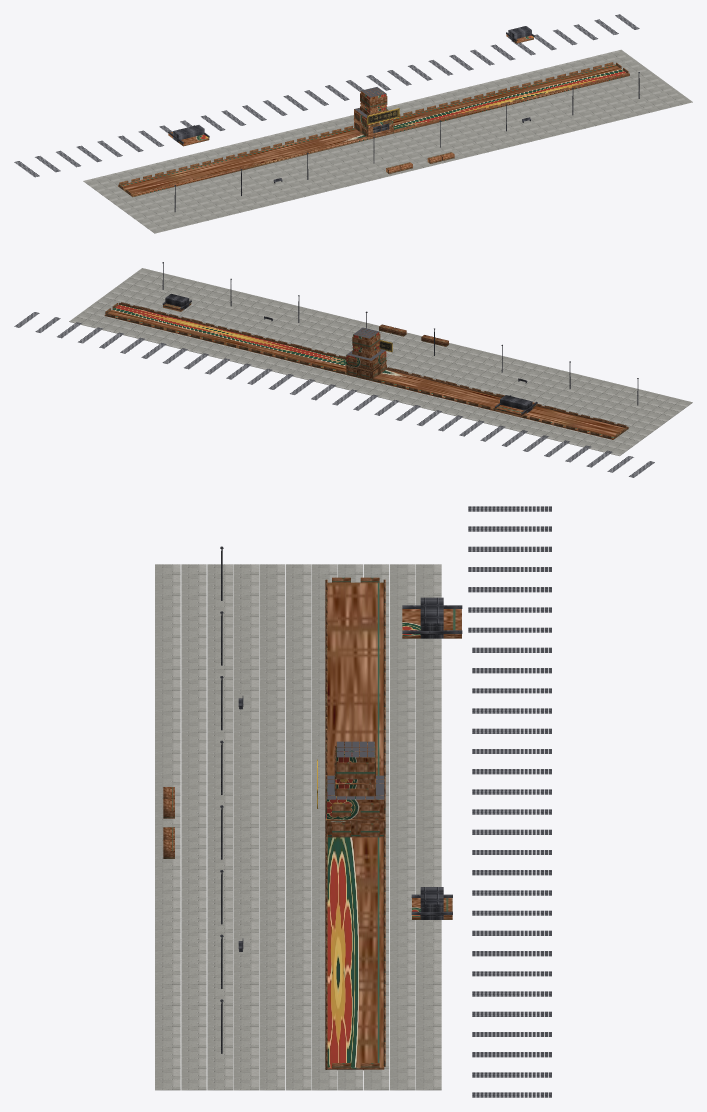
3 views of the same model, one above another, from view 1: azimuth 30°, elevation 25°; view 2: azimuth 150°, elevation 25°; view 3: azimuth 270°, elevation 25° (orthographic). The views are drawn at different scales.
Parts seen in each view (by area): view 1: 11140_02_04519_049_01__plinth_ground_base, 11140_02_04519_049_02__mass_body_facade, 11140_02_04519_049_03__roof_deck_structure, 11140_02_04519_049_03__roof_metal_ornament, 11140_02_04519_049_05__window_sash_glass, 11140_02_04519_049_05__door_hardware_iron, 11140_02_04519_049_06__landscape_greenery; view 2: 11140_02_04519_049_01__plinth_ground_base, 11140_02_04519_049_02__mass_body_facade, 11140_02_04519_049_03__roof_deck_structure, 11140_02_04519_049_03__roof_metal_ornament, 11140_02_04519_049_06__landscape_greenery, 11140_02_04519_049_05__door_hardware_iron; view 3: 11140_02_04519_049_01__plinth_ground_base, 11140_02_04519_049_02__mass_body_facade, 11140_02_04519_049_03__roof_deck_structure, 11140_02_04519_049_03__roof_metal_ornament, 11140_02_04519_049_05__door_hardware_iron.
Boxes of the visible parts, bbox=[...] form: 11140_02_04519_049_01__plinth_ground_base: bbox=[83, 49, 692, 233]; 11140_02_04519_049_02__mass_body_facade: bbox=[118, 34, 629, 197]; 11140_02_04519_049_03__roof_deck_structure: bbox=[14, 14, 639, 177]; 11140_02_04519_049_03__roof_metal_ornament: bbox=[168, 26, 534, 143]; 11140_02_04519_049_05__window_sash_glass: bbox=[153, 77, 609, 189]; 11140_02_04519_049_05__door_hardware_iron: bbox=[174, 72, 639, 212]; 11140_02_04519_049_06__landscape_greenery: bbox=[386, 152, 454, 174]; 11140_02_04519_049_01__plinth_ground_base: bbox=[69, 268, 692, 456]; 11140_02_04519_049_02__mass_body_facade: bbox=[104, 302, 628, 439]; 11140_02_04519_049_03__roof_deck_structure: bbox=[14, 312, 654, 477]; 11140_02_04519_049_03__roof_metal_ornament: bbox=[162, 293, 537, 414]; 11140_02_04519_049_06__landscape_greenery: bbox=[379, 324, 448, 346]; 11140_02_04519_049_05__door_hardware_iron: bbox=[162, 262, 638, 405]; 11140_02_04519_049_01__plinth_ground_base: bbox=[155, 564, 441, 1090]; 11140_02_04519_049_02__mass_body_facade: bbox=[325, 577, 461, 1070]; 11140_02_04519_049_03__roof_deck_structure: bbox=[327, 506, 551, 1097]; 11140_02_04519_049_03__roof_metal_ornament: bbox=[402, 597, 462, 919]; 11140_02_04519_049_05__door_hardware_iron: bbox=[220, 546, 326, 1053].
Size of the model in its own units: 146 by 10.8 by 41.48.
Materials: 7 (7 with a texture image).
